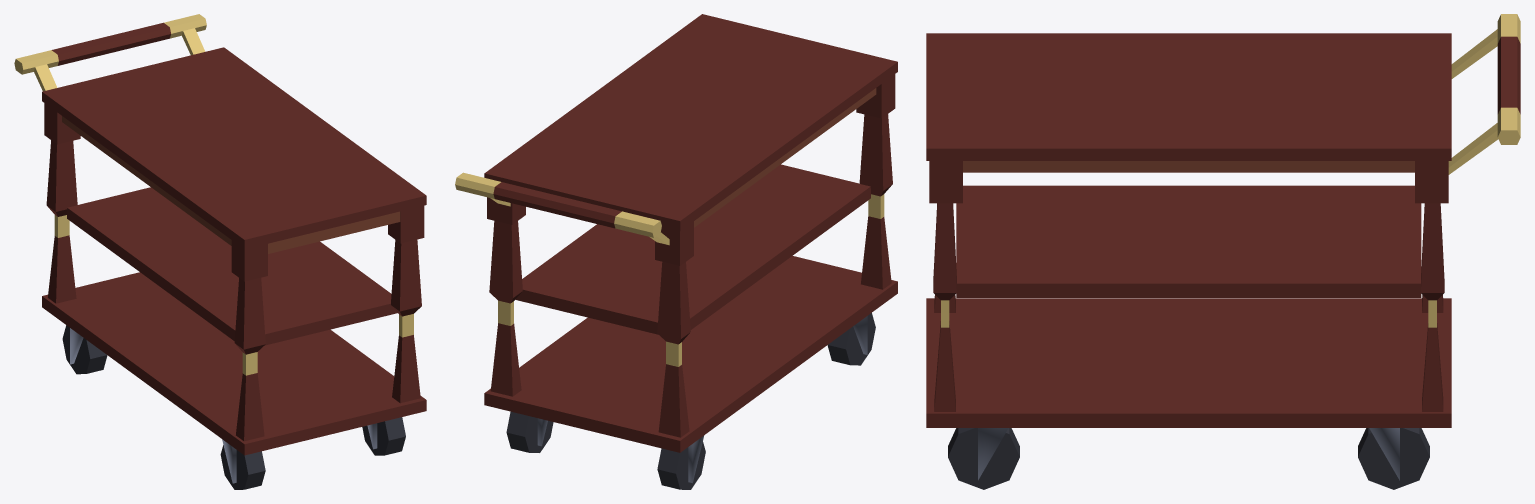
The model's file is Food_Trolley.fbx.
3 views of the same model, side by side, from view 1: azimuth 30°, elevation 25°; view 2: azimuth 150°, elevation 25°; view 3: azimuth 270°, elevation 25° (orthographic). The views are drawn at different scales.
Visible parts, largest first — view 1: Food_Trolley; view 2: Food_Trolley; view 3: Food_Trolley.
Part boxes in pixels (<box>): Food_Trolley: <box>14,14,426,489</box>; Food_Trolley: <box>455,14,897,489</box>; Food_Trolley: <box>926,14,1520,489</box>.
Size of the model in its own units: 0.61 by 0.9008 by 1.32.
